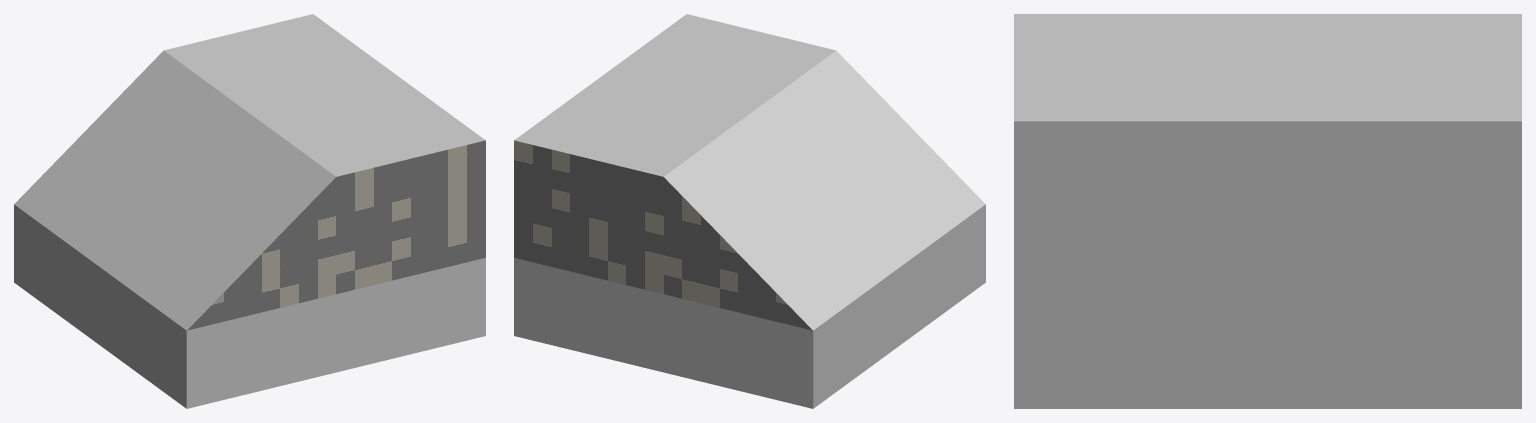
File: slope75_shave6_base4.obj
3 views of the same model, side by side, from view 1: azimuth 30°, elevation 25°; view 2: azimuth 150°, elevation 25°; view 3: azimuth 270°, elevation 25° (orthographic). The views are drawn at different scales.
Bounding box in the file's own units: 1 × 0.625 × 1.
